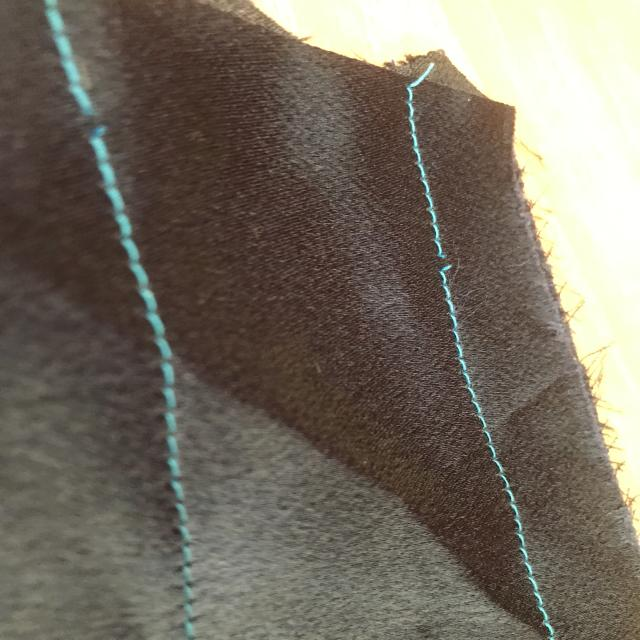broken: (410, 226, 480, 304)
good: (434, 333, 533, 516)
